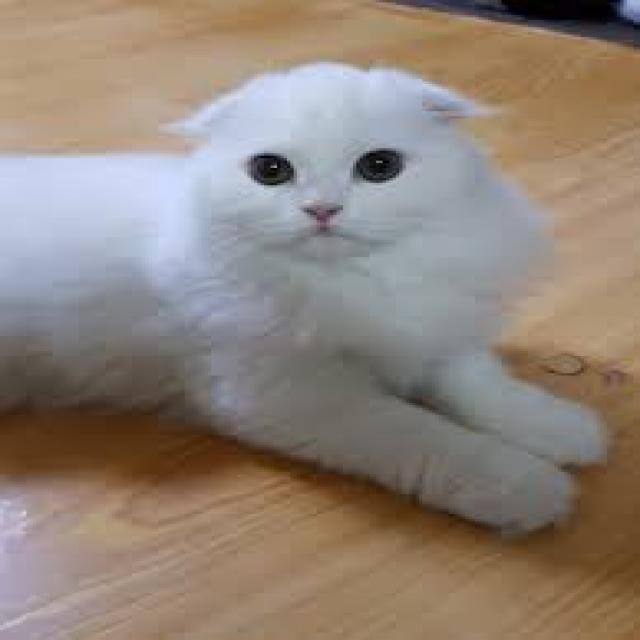cat-face: (123, 28, 539, 306)
